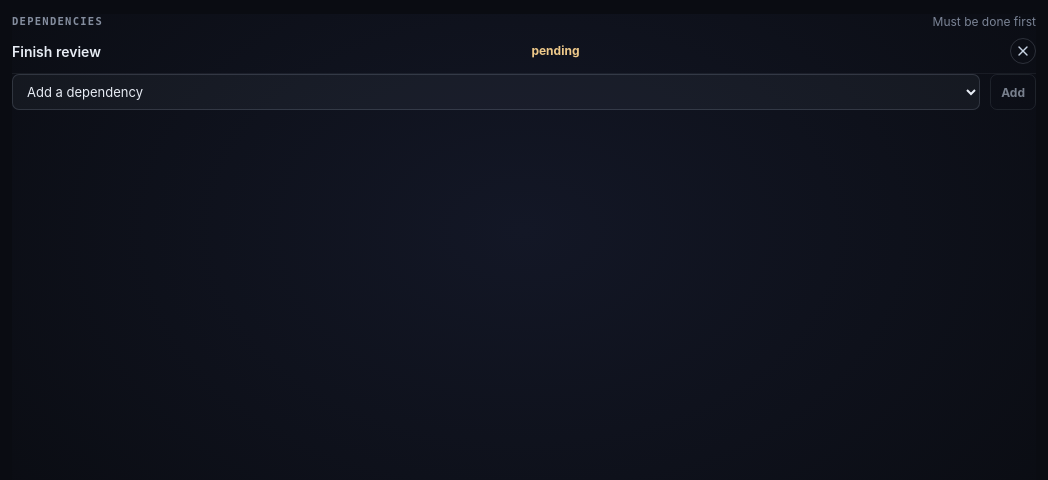
Test: TaskDependencies › surfaces the failure when removal rejects, keeping the row
The image size is (1048, 480).
Step 1. Click the button named "Remove dependency Finish review" → point(1023, 51), box [1010, 38, 1036, 64]
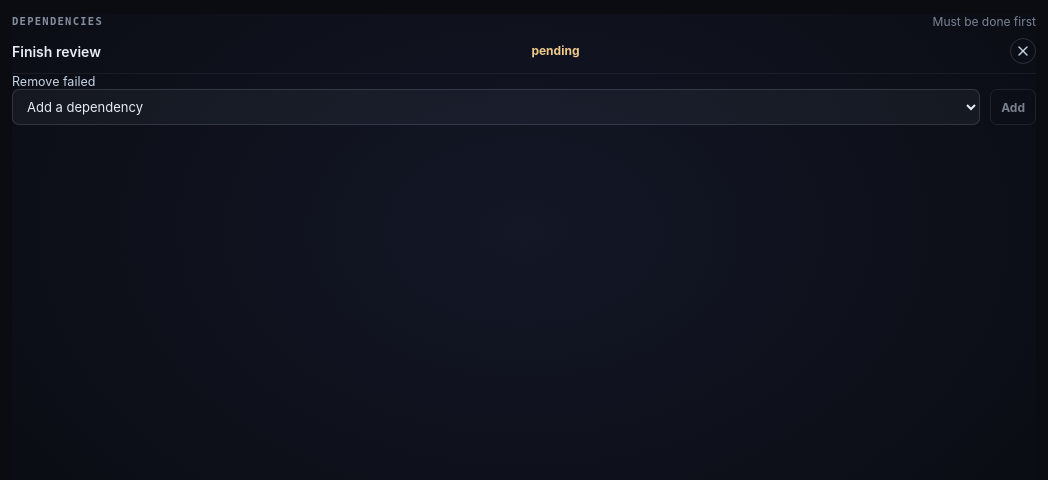
Expected: the link "Finish review" is shown, [12, 42, 101, 60]
Now the message reads "Remove failed", box [12, 74, 95, 89]
